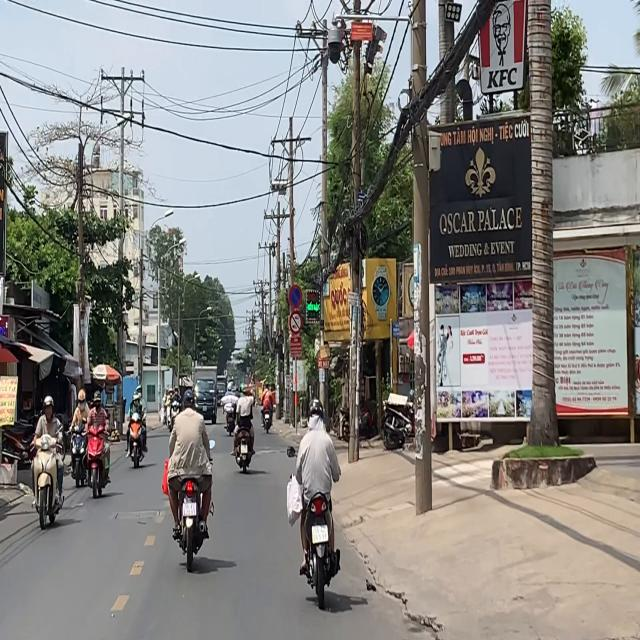Cam con lai: (289, 310, 302, 336)
Cam do: (289, 284, 302, 308)
